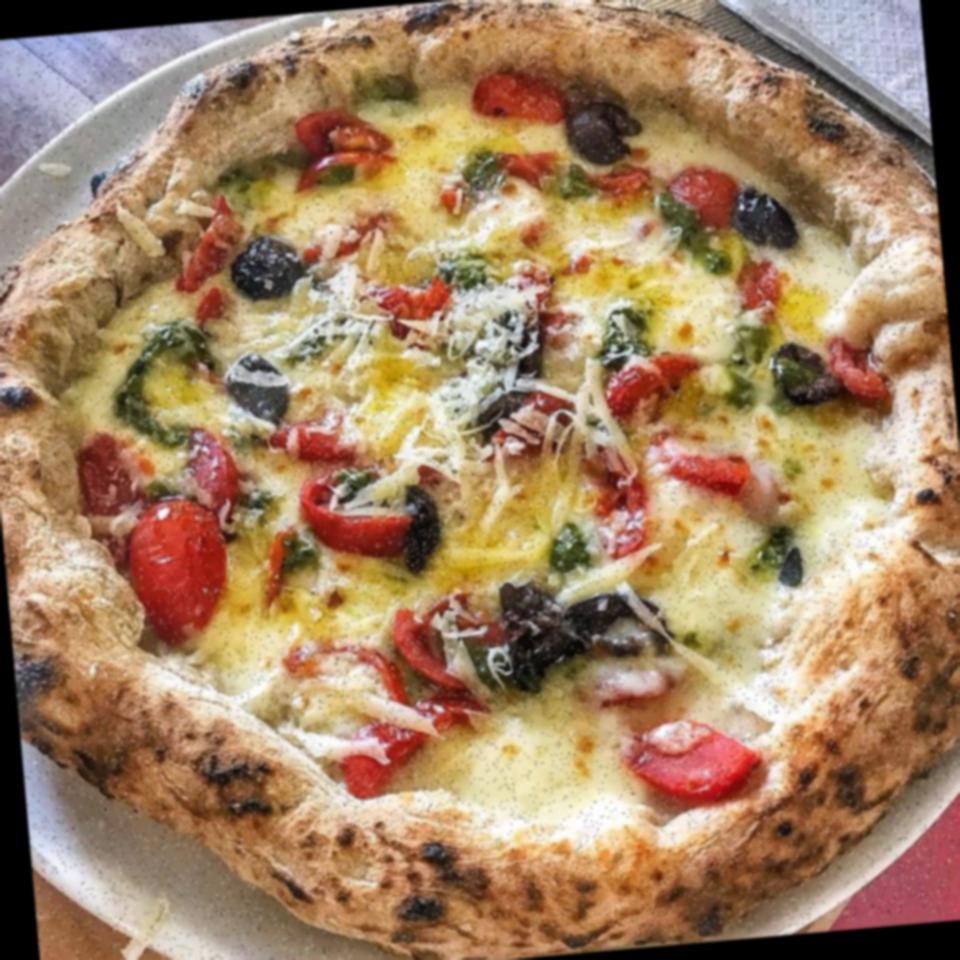Basil: (123, 324, 210, 444), (646, 178, 735, 286), (197, 138, 309, 204), (750, 520, 823, 598), (711, 336, 774, 423), (428, 232, 500, 294), (528, 522, 599, 582), (349, 64, 436, 108), (604, 275, 660, 332), (464, 150, 510, 197)
Mushroom: (499, 572, 683, 684), (762, 333, 846, 426), (229, 231, 314, 308), (565, 96, 651, 172), (398, 481, 464, 578), (493, 292, 554, 394), (731, 176, 803, 261), (224, 348, 298, 425)
Pizza: (0, 0, 960, 960)
Tomatoes: (123, 496, 242, 654), (602, 706, 760, 818), (294, 463, 437, 565), (388, 591, 506, 711), (634, 423, 777, 516), (338, 696, 466, 797), (288, 100, 404, 198), (575, 440, 659, 564), (602, 329, 712, 420), (657, 153, 759, 243), (289, 630, 407, 704), (488, 384, 582, 470), (70, 432, 149, 532), (172, 421, 246, 526), (175, 195, 248, 301), (473, 55, 573, 130), (262, 404, 363, 475), (260, 524, 321, 632), (599, 659, 694, 724), (824, 333, 892, 413), (584, 148, 663, 214), (368, 275, 454, 334), (734, 260, 792, 336), (496, 137, 563, 194), (183, 274, 235, 339)
